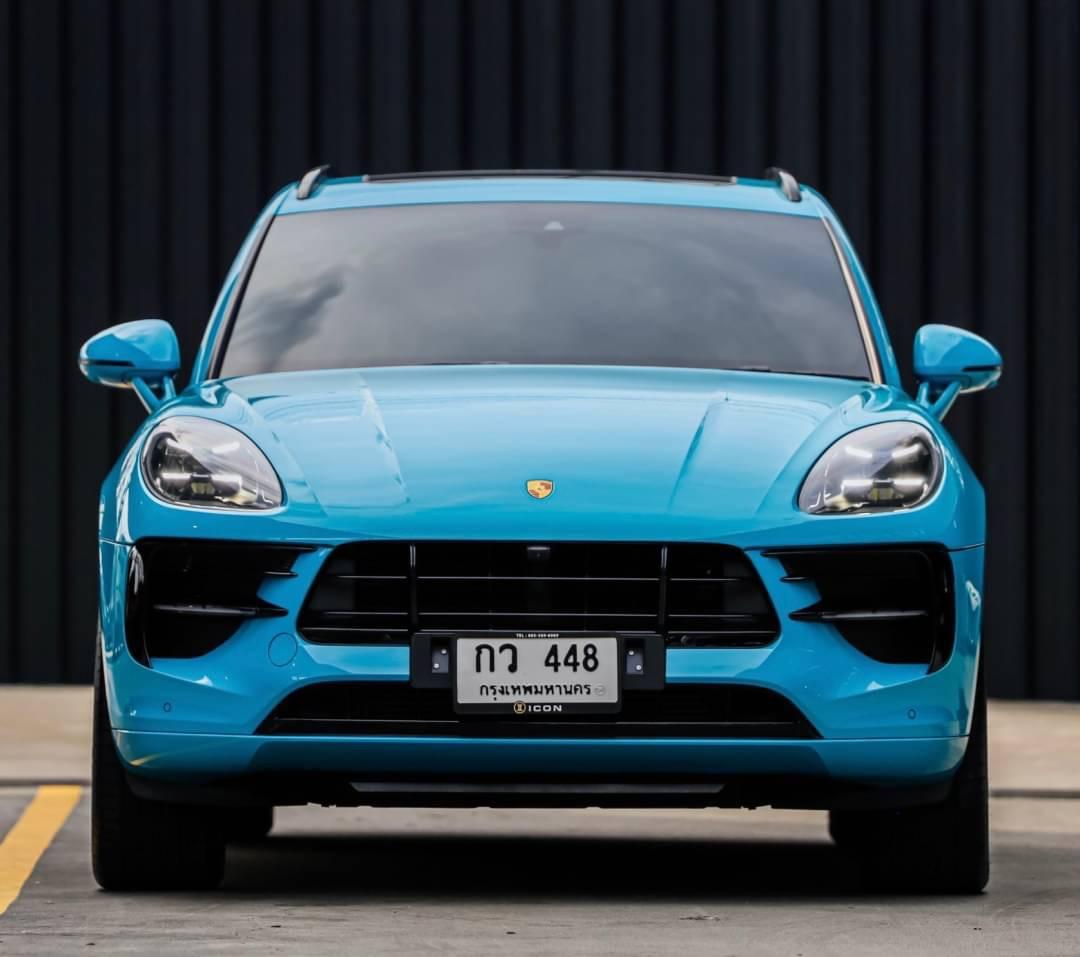license-plate: (453, 634, 629, 714)
